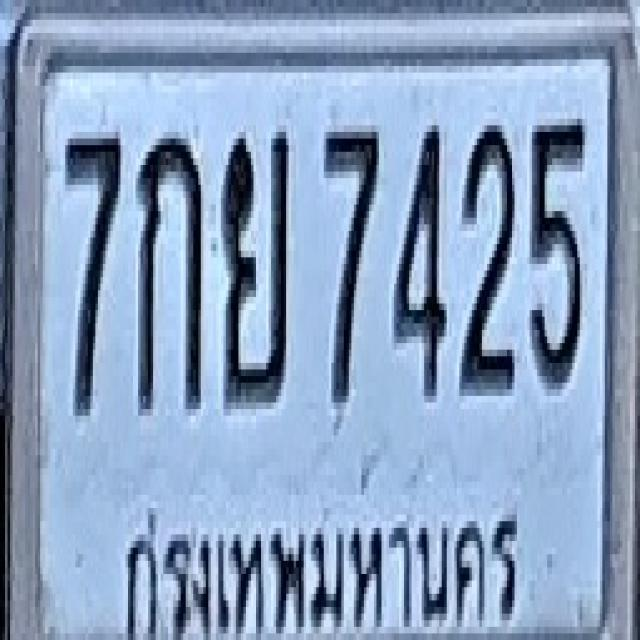2: (460, 119, 514, 389)
4: (393, 119, 445, 396)
5: (530, 115, 584, 386)
7: (324, 122, 379, 406), (66, 129, 120, 412)
A01: (137, 129, 202, 412)
A34: (220, 125, 288, 402)
BKK: (119, 487, 528, 640)
